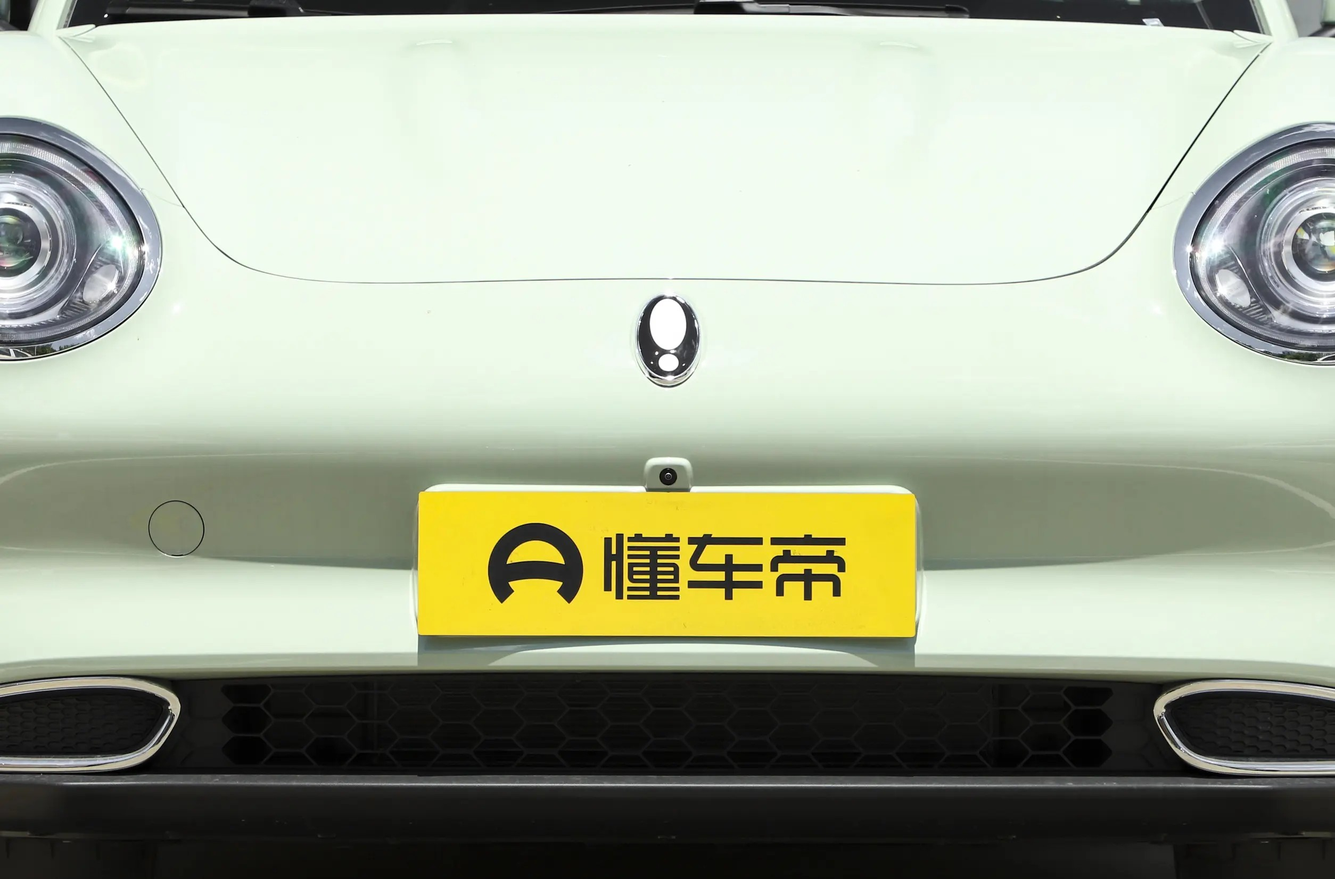ORA: (634, 295, 701, 385)
